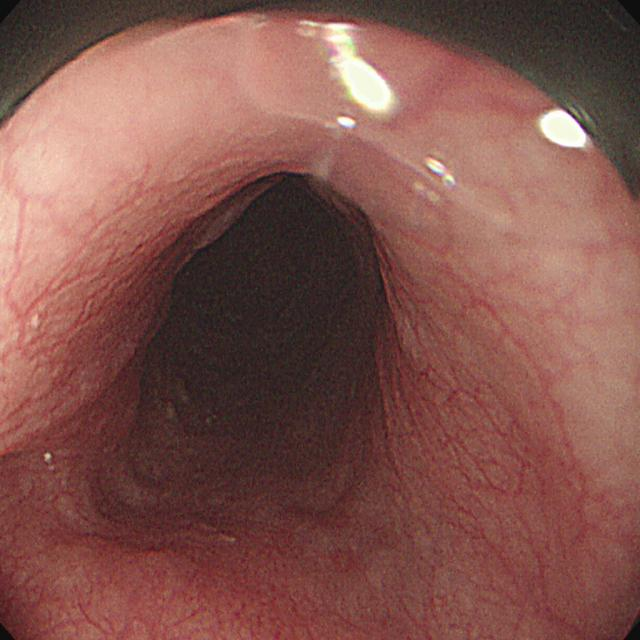E: (191, 190, 359, 401)
U: (298, 21, 398, 118), (538, 109, 590, 151)
